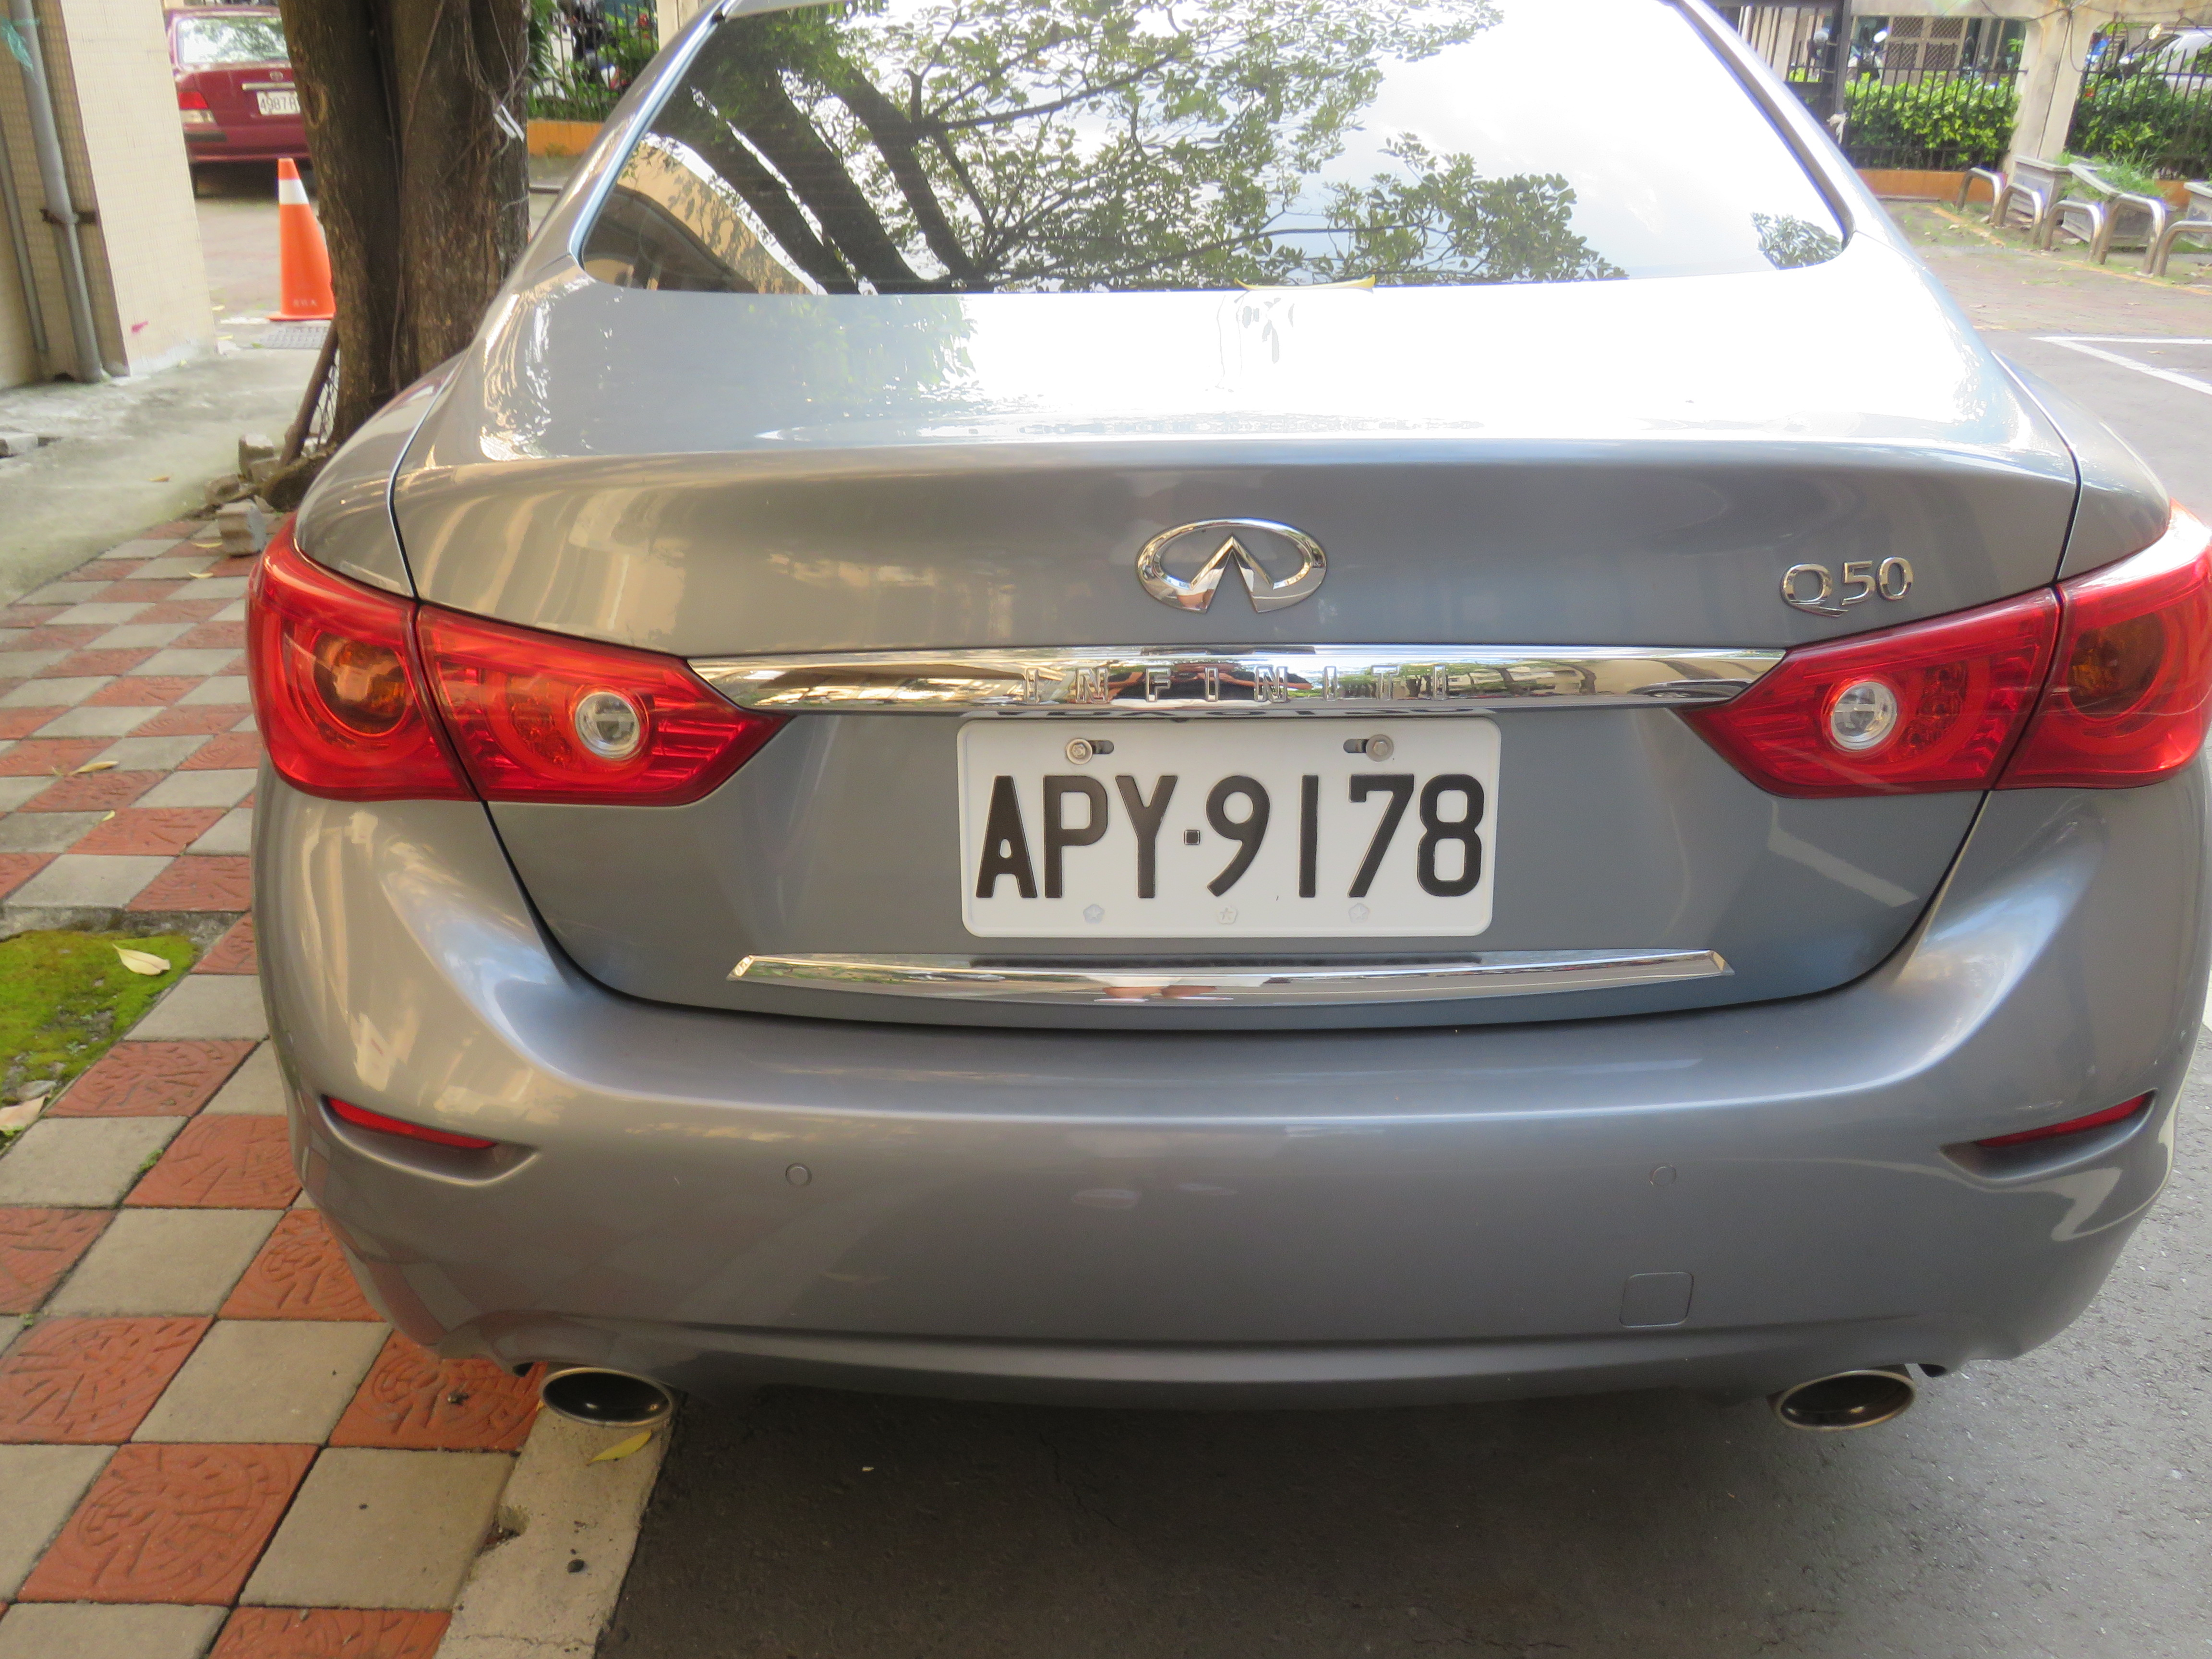car: (237, 0, 2205, 1439), (167, 2, 350, 192)
car_card: (942, 688, 1519, 986), (249, 87, 307, 120)
